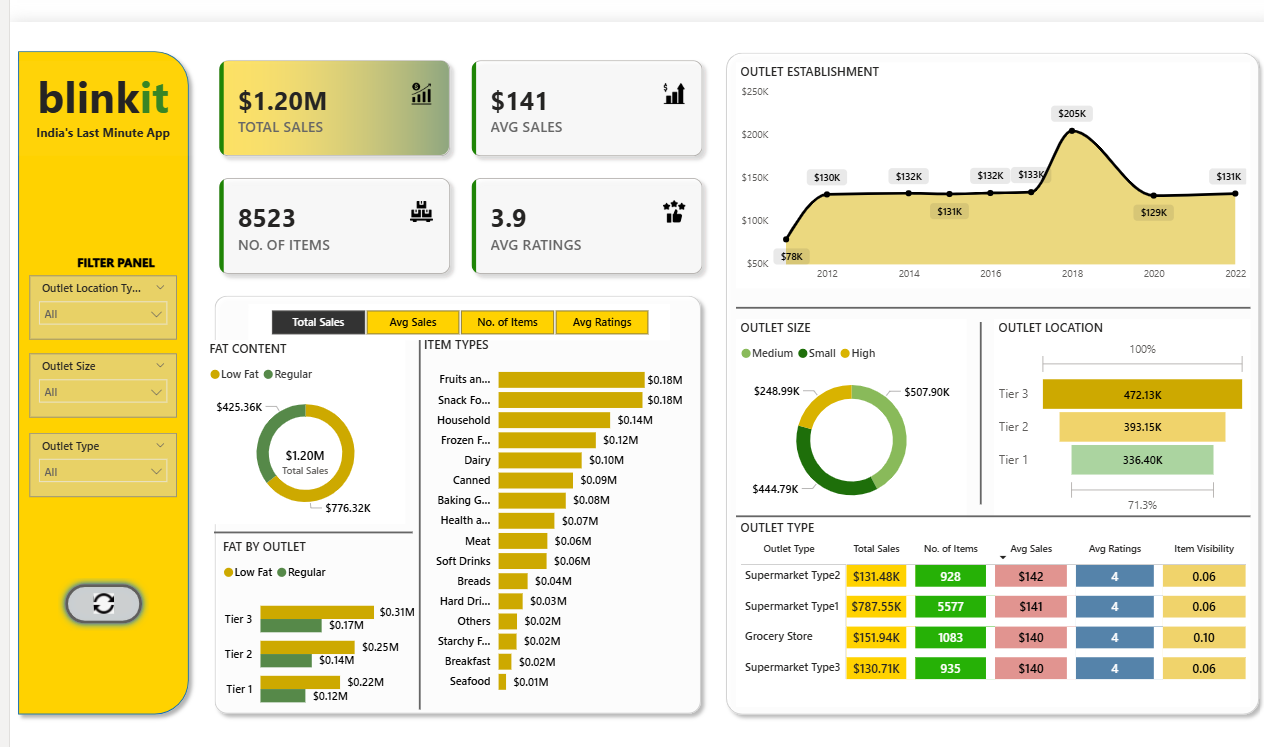

The dashboard page shown, as its layout file describes it:
{"tool":"powerbi","page":{"name":"Dashboard","canvas":[1400,800],"ordinal":0},"visuals":[{"type":"cardVisual","fields":{"Data":["BlinkIT Grocery Data.Total Sales","BlinkIT Grocery Data.Avg Sales","BlinkIT Grocery Data.No. of Items","BlinkIT Grocery Data.Avg Ratings"]},"box":[213.1,25.7,569.6,270.1],"z":1000,"group":"g1"},{"type":"shape","box":[0,24,206.4,750.4],"z":1500,"group":"g1"},{"type":"textbox","box":[0,44.1,205.8,104.7],"z":2000,"group":"g1"},{"type":"shape","box":[216.8,294,554.9,479.5],"z":3000,"group":"g1"},{"type":"donutChart","title":"FAT CONTENT","fields":{"Y":["BlinkIT Grocery Data.Total Sales"],"Category":["BlinkIT Grocery Data.Item Fat Content"]},"box":[215.3,352.3,221.3,203.2],"z":4000,"group":"g1"},{"type":"slicer","fields":{"Values":["Matrix.Matrix"]},"box":[264,312,465.6,40],"z":5000,"group":"g1"},{"type":"cardVisual","fields":{"Data":["BlinkIT Grocery Data.Total Sales"]},"box":[273.6,452.8,105.6,62.4],"z":6000,"group":"g1"},{"type":"clusteredBarChart","title":"FAT BY OUTLET","fields":{"Y":["BlinkIT Grocery Data.Total Sales"],"Category":["BlinkIT Grocery Data.Outlet Location Type"],"Series":["BlinkIT Grocery Data.Item Fat Content"]},"box":[230.3,570.5,221.3,203.2],"z":7000,"group":"g1"},{"type":"shape","box":[225.5,544,219.6,40.7],"z":8000,"group":"g1"},{"type":"shape","box":[436.8,352,30.4,408],"z":9000,"group":"g1"},{"type":"barChart","title":"ITEM TYPES","fields":{"Y":["BlinkIT Grocery Data.Total Sales"],"Category":["BlinkIT Grocery Data.Item Type"]},"box":[451.6,346.2,295.1,404.9],"z":10000,"group":"g1"},{"type":"shape","box":[782.4,25.6,606.4,748.8],"z":11000,"group":"g1"},{"type":"lineChart","title":"OUTLET  ESTABLISHMENT","fields":{"Category":["BlinkIT Grocery Data.Outlet Establishment Year"],"Y":["BlinkIT Grocery Data.Total Sales"]},"box":[801.6,44.8,568,249.6],"z":12000,"group":"g1"},{"type":"shape","box":[801.6,294.4,568,44.8],"z":13000,"group":"g1"},{"type":"donutChart","title":"OUTLET SIZE","fields":{"Y":["BlinkIT Grocery Data.Total Sales","BlinkIT Grocery Data.Total Sales"],"Category":["BlinkIT Grocery Data.Outlet Size"]},"box":[801.6,328,254.4,220.8],"z":14000,"group":"g1"},{"type":"shape","box":[1056,332.8,30.4,201.6],"z":15000,"group":"g1"},{"type":"funnel","title":"OUTLET LOCATION","fields":{"Category":["BlinkIT Grocery Data.Outlet Location Type"],"Y":["Sum(BlinkIT Grocery Data.Sales)"]},"box":[1086.5,328.7,283.6,219.6],"z":16000,"group":"g1"},{"type":"shape","box":[801.6,524.8,568,44.8],"z":17000,"group":"g1"},{"type":"pivotTable","title":"OUTLET TYPE","fields":{"Rows":["BlinkIT Grocery Data.Outlet Type"],"Values":["BlinkIT Grocery Data.Total Sales","BlinkIT Grocery Data.No. of Items","BlinkIT Grocery Data.Avg Sales","BlinkIT Grocery Data.Avg Ratings","Avg(BlinkIT Grocery Data.Item Visibility)"]},"box":[801.6,548.8,568,208],"z":18000,"group":"g1"},{"type":"textbox","box":[64,250.2,104.7,30.5],"z":22000,"group":"g1"},{"type":"group","id":"g1","title":"Group 1","box":[0,24,1388.8,750.4],"z":22003},{"type":"slicer","fields":{"Values":["BlinkIT Grocery Data.Outlet Location Type"]},"box":[21.1,280,162.6,70.8],"z":22500,"group":"g1"},{"type":"slicer","fields":{"Values":["BlinkIT Grocery Data.Outlet Size"]},"box":[21.1,367.3,162.6,70.8],"z":22750,"group":"g1"},{"type":"slicer","fields":{"Values":["BlinkIT Grocery Data.Outlet Type"]},"box":[21.1,454.6,162.6,70.8],"z":22875,"group":"g1"},{"type":"actionButton","box":[52.8,612.8,100.8,59.2],"z":23500,"group":"g1"}]}

Visuals, with their boxes on the page's 1400x800 design canvas (x1, y1, x2, y2). These are canvas units, not pixel positions in the 1264x747 screenshot, which may show the page scaled, cropped or inside an application window:
cardVisual - BlinkIT Grocery Data.Total Sales x BlinkIT Grocery Data.Avg Sales: [x1=213, y1=26, x2=783, y2=296]
shape: [x1=0, y1=24, x2=206, y2=774]
textbox: [x1=0, y1=44, x2=206, y2=149]
shape: [x1=217, y1=294, x2=772, y2=774]
"FAT CONTENT" donutChart: [x1=215, y1=352, x2=437, y2=556]
slicer - Matrix.Matrix: [x1=264, y1=312, x2=730, y2=352]
cardVisual - BlinkIT Grocery Data.Total Sales: [x1=274, y1=453, x2=379, y2=515]
"FAT BY OUTLET" clusteredBarChart: [x1=230, y1=570, x2=452, y2=774]
shape: [x1=226, y1=544, x2=445, y2=585]
shape: [x1=437, y1=352, x2=467, y2=760]
"ITEM TYPES" barChart: [x1=452, y1=346, x2=747, y2=751]
shape: [x1=782, y1=26, x2=1389, y2=774]
"OUTLET  ESTABLISHMENT" lineChart: [x1=802, y1=45, x2=1370, y2=294]
shape: [x1=802, y1=294, x2=1370, y2=339]
"OUTLET SIZE" donutChart: [x1=802, y1=328, x2=1056, y2=549]
shape: [x1=1056, y1=333, x2=1086, y2=534]
"OUTLET LOCATION" funnel: [x1=1086, y1=329, x2=1370, y2=548]
shape: [x1=802, y1=525, x2=1370, y2=570]
"OUTLET TYPE" pivotTable: [x1=802, y1=549, x2=1370, y2=757]
textbox: [x1=64, y1=250, x2=169, y2=281]
"Group 1" group: [x1=0, y1=24, x2=1389, y2=774]
slicer - BlinkIT Grocery Data.Outlet Location Type: [x1=21, y1=280, x2=184, y2=351]
slicer - BlinkIT Grocery Data.Outlet Size: [x1=21, y1=367, x2=184, y2=438]
slicer - BlinkIT Grocery Data.Outlet Type: [x1=21, y1=455, x2=184, y2=525]
actionButton: [x1=53, y1=613, x2=154, y2=672]
